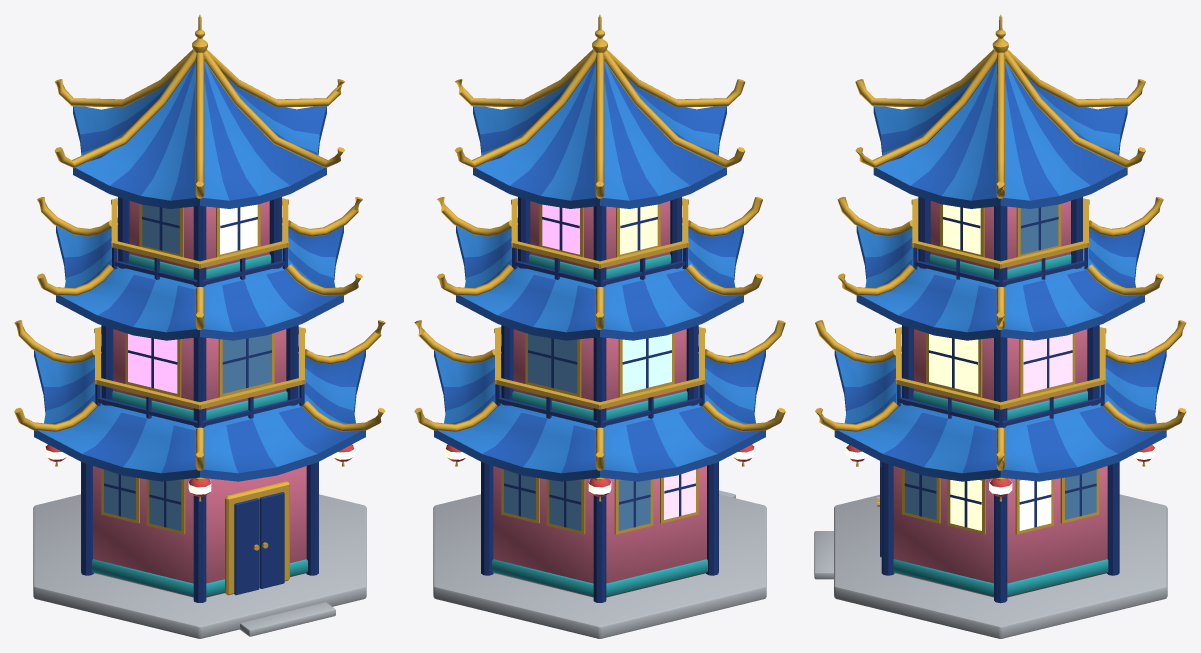
Rendered from pagode_hexagonal_azul.glb.
The picture shows the model from 3 angles, left to right: view 1: azimuth 30°, elevation 25°; view 2: azimuth 150°, elevation 25°; view 3: azimuth 270°, elevation 25°; orthographic projection.
Visible parts, largest first — view 1: pagode_hexagonal_azul; view 2: pagode_hexagonal_azul; view 3: pagode_hexagonal_azul.
Boxes of the visible parts, <box> form: pagode_hexagonal_azul: <box>14,14,385,638</box>; pagode_hexagonal_azul: <box>414,14,785,638</box>; pagode_hexagonal_azul: <box>814,14,1186,638</box>.
Bounding box in the file's own units: 10.19 × 14.36 × 8.89.
8 materials, 1 textured.
